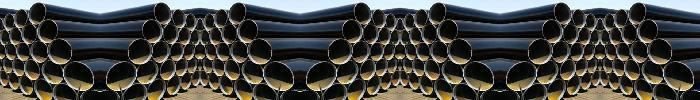pipe: (306, 62, 337, 90), (263, 62, 294, 90), (463, 62, 494, 90), (106, 62, 137, 90), (506, 62, 537, 90), (63, 62, 94, 90), (663, 62, 694, 90), (328, 39, 351, 64), (249, 39, 272, 64), (449, 39, 472, 64), (128, 39, 151, 64), (528, 39, 551, 64), (49, 39, 72, 64), (649, 39, 672, 64), (338, 60, 358, 83), (242, 60, 262, 83), (442, 60, 462, 83), (138, 60, 158, 83), (538, 60, 558, 83), (42, 60, 62, 83), (642, 60, 662, 83), (343, 19, 362, 43), (238, 19, 257, 43), (438, 19, 457, 43), (143, 19, 162, 43), (543, 19, 562, 43), (38, 19, 57, 43), (638, 19, 657, 43), (354, 3, 372, 24), (348, 79, 366, 100), (228, 3, 246, 24), (428, 3, 446, 24), (154, 3, 172, 24), (554, 3, 572, 24), (28, 3, 46, 24), (628, 3, 646, 24), (234, 79, 252, 100), (434, 79, 452, 100), (148, 79, 166, 100), (548, 79, 566, 100), (34, 79, 52, 100), (634, 79, 652, 100), (353, 41, 369, 62), (231, 41, 247, 62), (431, 41, 447, 62), (153, 41, 169, 62), (553, 41, 569, 62), (31, 41, 47, 62), (631, 41, 647, 62), (363, 24, 379, 44), (221, 24, 237, 44), (421, 24, 437, 44), (163, 24, 179, 44), (563, 24, 579, 44), (21, 24, 37, 44), (621, 24, 637, 44), (372, 9, 386, 28), (361, 60, 375, 79), (367, 76, 381, 95), (214, 9, 228, 28), (414, 9, 428, 28), (172, 9, 186, 28), (572, 9, 586, 28), (14, 9, 28, 28), (614, 9, 628, 28), (225, 60, 239, 79), (425, 60, 439, 79), (161, 60, 175, 79), (561, 60, 575, 79), (25, 60, 39, 79), (625, 60, 639, 79), (219, 76, 233, 95), (419, 76, 433, 95), (167, 76, 181, 95), (567, 76, 581, 95), (19, 76, 33, 95), (619, 76, 633, 95), (370, 43, 383, 61), (217, 43, 230, 61), (417, 43, 430, 61), (170, 43, 183, 61), (570, 43, 583, 61), (17, 43, 30, 61), (617, 43, 630, 61), (376, 59, 387, 76), (213, 59, 224, 76), (413, 59, 424, 76), (176, 59, 187, 76), (576, 59, 587, 76), (13, 59, 24, 76), (613, 59, 624, 76), (379, 28, 390, 44), (210, 28, 221, 44), (410, 28, 421, 44), (179, 28, 190, 44), (579, 28, 590, 44), (10, 28, 21, 44), (610, 28, 621, 44), (384, 44, 394, 59), (206, 44, 216, 59), (406, 44, 416, 59), (184, 44, 194, 59), (584, 44, 594, 59), (6, 44, 16, 59), (606, 44, 616, 59), (387, 14, 396, 30), (391, 29, 400, 45), (382, 73, 391, 89), (204, 14, 213, 30), (404, 14, 413, 30), (187, 14, 196, 30), (587, 14, 596, 30), (4, 14, 13, 30), (604, 14, 613, 30), (200, 29, 209, 45), (400, 29, 409, 45), (191, 29, 200, 45), (591, 29, 600, 45), (0, 29, 9, 45), (600, 29, 609, 45), (209, 73, 218, 89), (409, 73, 418, 89), (182, 73, 191, 89), (582, 73, 591, 89), (9, 73, 18, 89), (609, 73, 618, 89), (388, 58, 397, 73), (203, 58, 212, 73), (403, 58, 412, 73), (188, 58, 197, 73), (588, 58, 597, 73), (3, 58, 12, 73), (603, 58, 612, 73), (392, 71, 400, 86), (200, 71, 208, 86), (400, 71, 408, 86), (192, 71, 200, 86), (592, 71, 600, 86), (0, 71, 8, 86), (600, 71, 608, 86)
